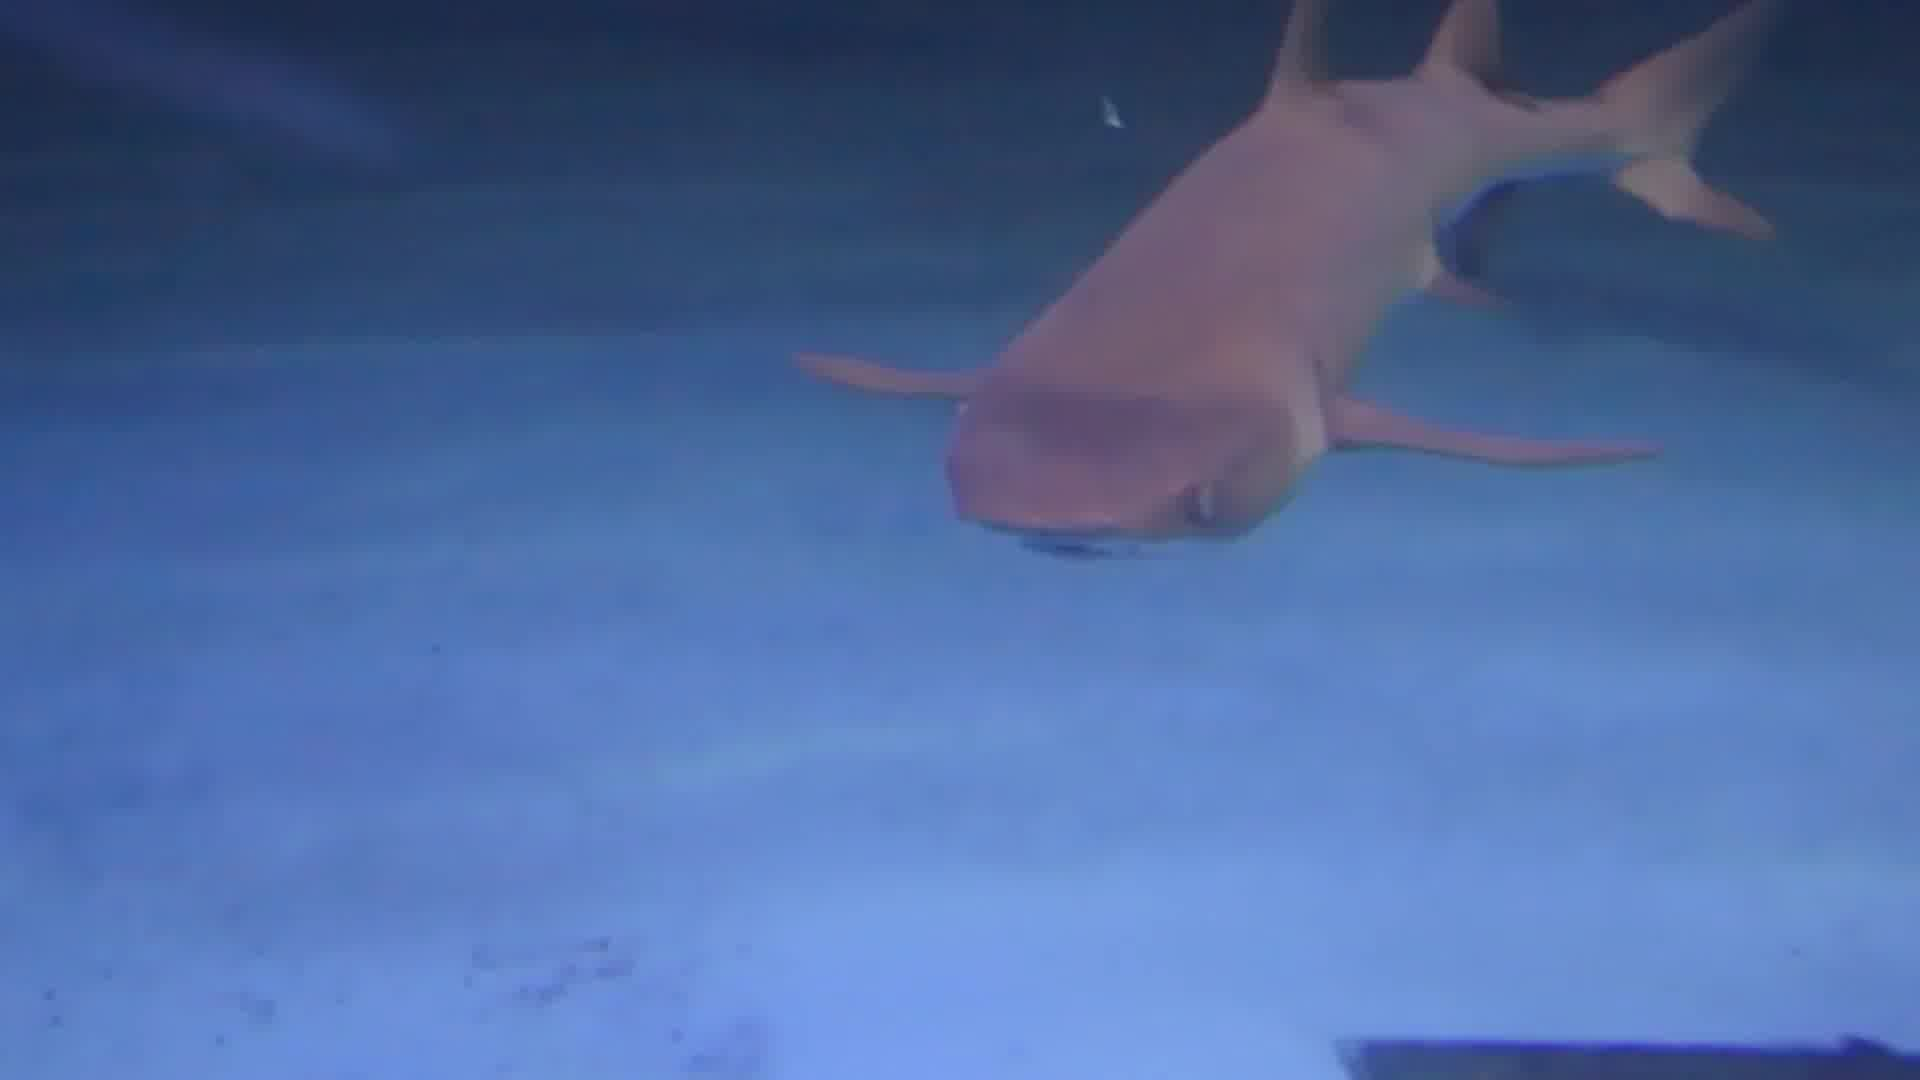Triaenodon obesus: (758, 1, 1775, 549)
